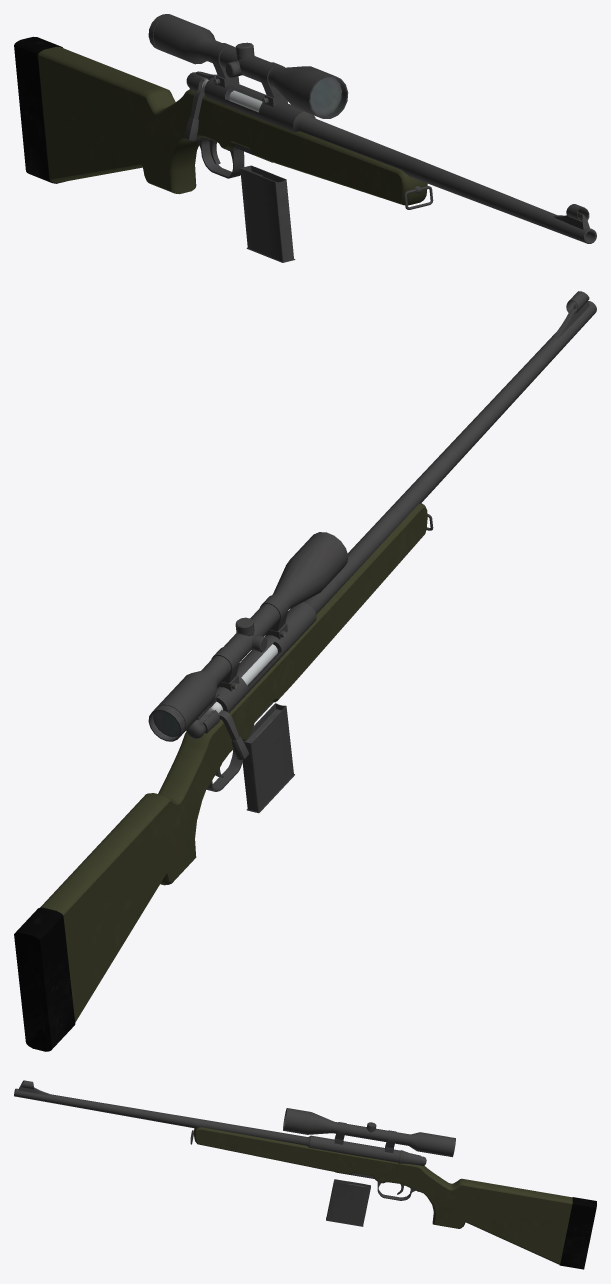
File: sniper.glb
3 renders of one model, top to bottom at view 1: azimuth 30°, elevation 25°; view 2: azimuth 150°, elevation 25°; view 3: azimuth 270°, elevation 25°, orthographic. The views are drawn at different scales.
Parts seen in each view (by area): view 1: Barrel; view 2: Barrel; view 3: Barrel.
Part boxes in pixels (x1,y1,x2,y2): Barrel: (14,14,596,262); Barrel: (14,291,596,1051); Barrel: (14,1080,596,1269).
Bounding box in the file's own units: 0.0778 × 0.5431 × 1.53.
Materials: 1 (1 with a texture image).
